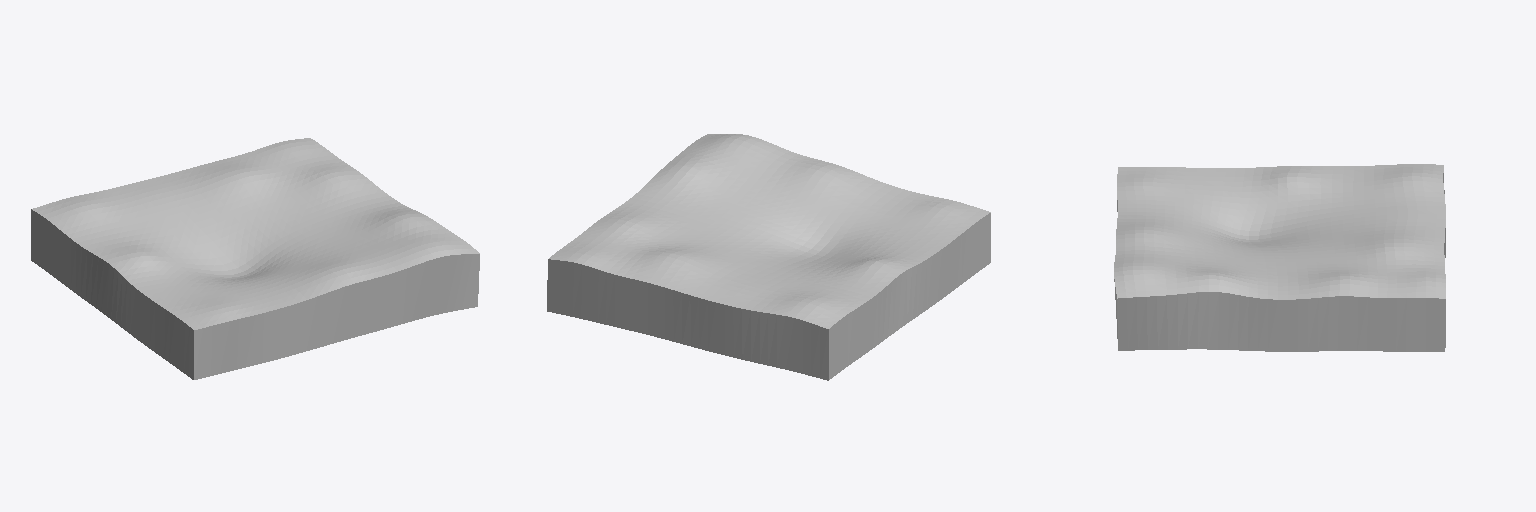
Rendered from idk.obj.
3 views of the same model, side by side, from view 1: azimuth 30°, elevation 25°; view 2: azimuth 150°, elevation 25°; view 3: azimuth 270°, elevation 25° (orthographic).
Parts seen in each view (by area): view 1: Plane, Plane-colonly; view 2: Plane, Plane-colonly; view 3: Plane, Plane-colonly.
Part boxes in pixels (x1,y1,x2,y2): Plane: (31,138,479,379); Plane-colonly: (34,140,472,379); Plane: (547,134,990,380); Plane-colonly: (557,134,989,371); Plane: (1114,164,1445,351); Plane-colonly: (1115,164,1445,351).
Bounding box in the file's own units: 22.04 × 5.52 × 22.18.